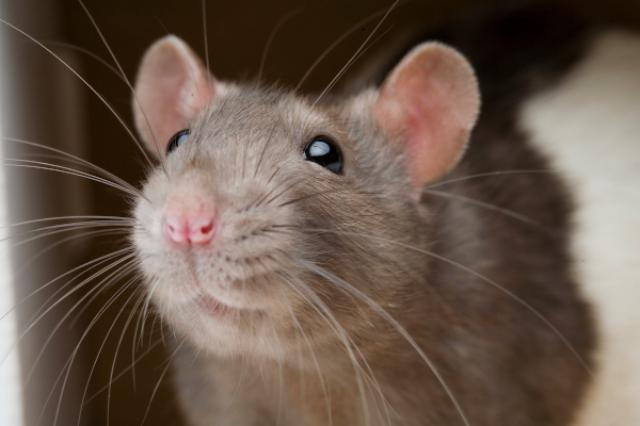rat: (84, 21, 503, 389)
